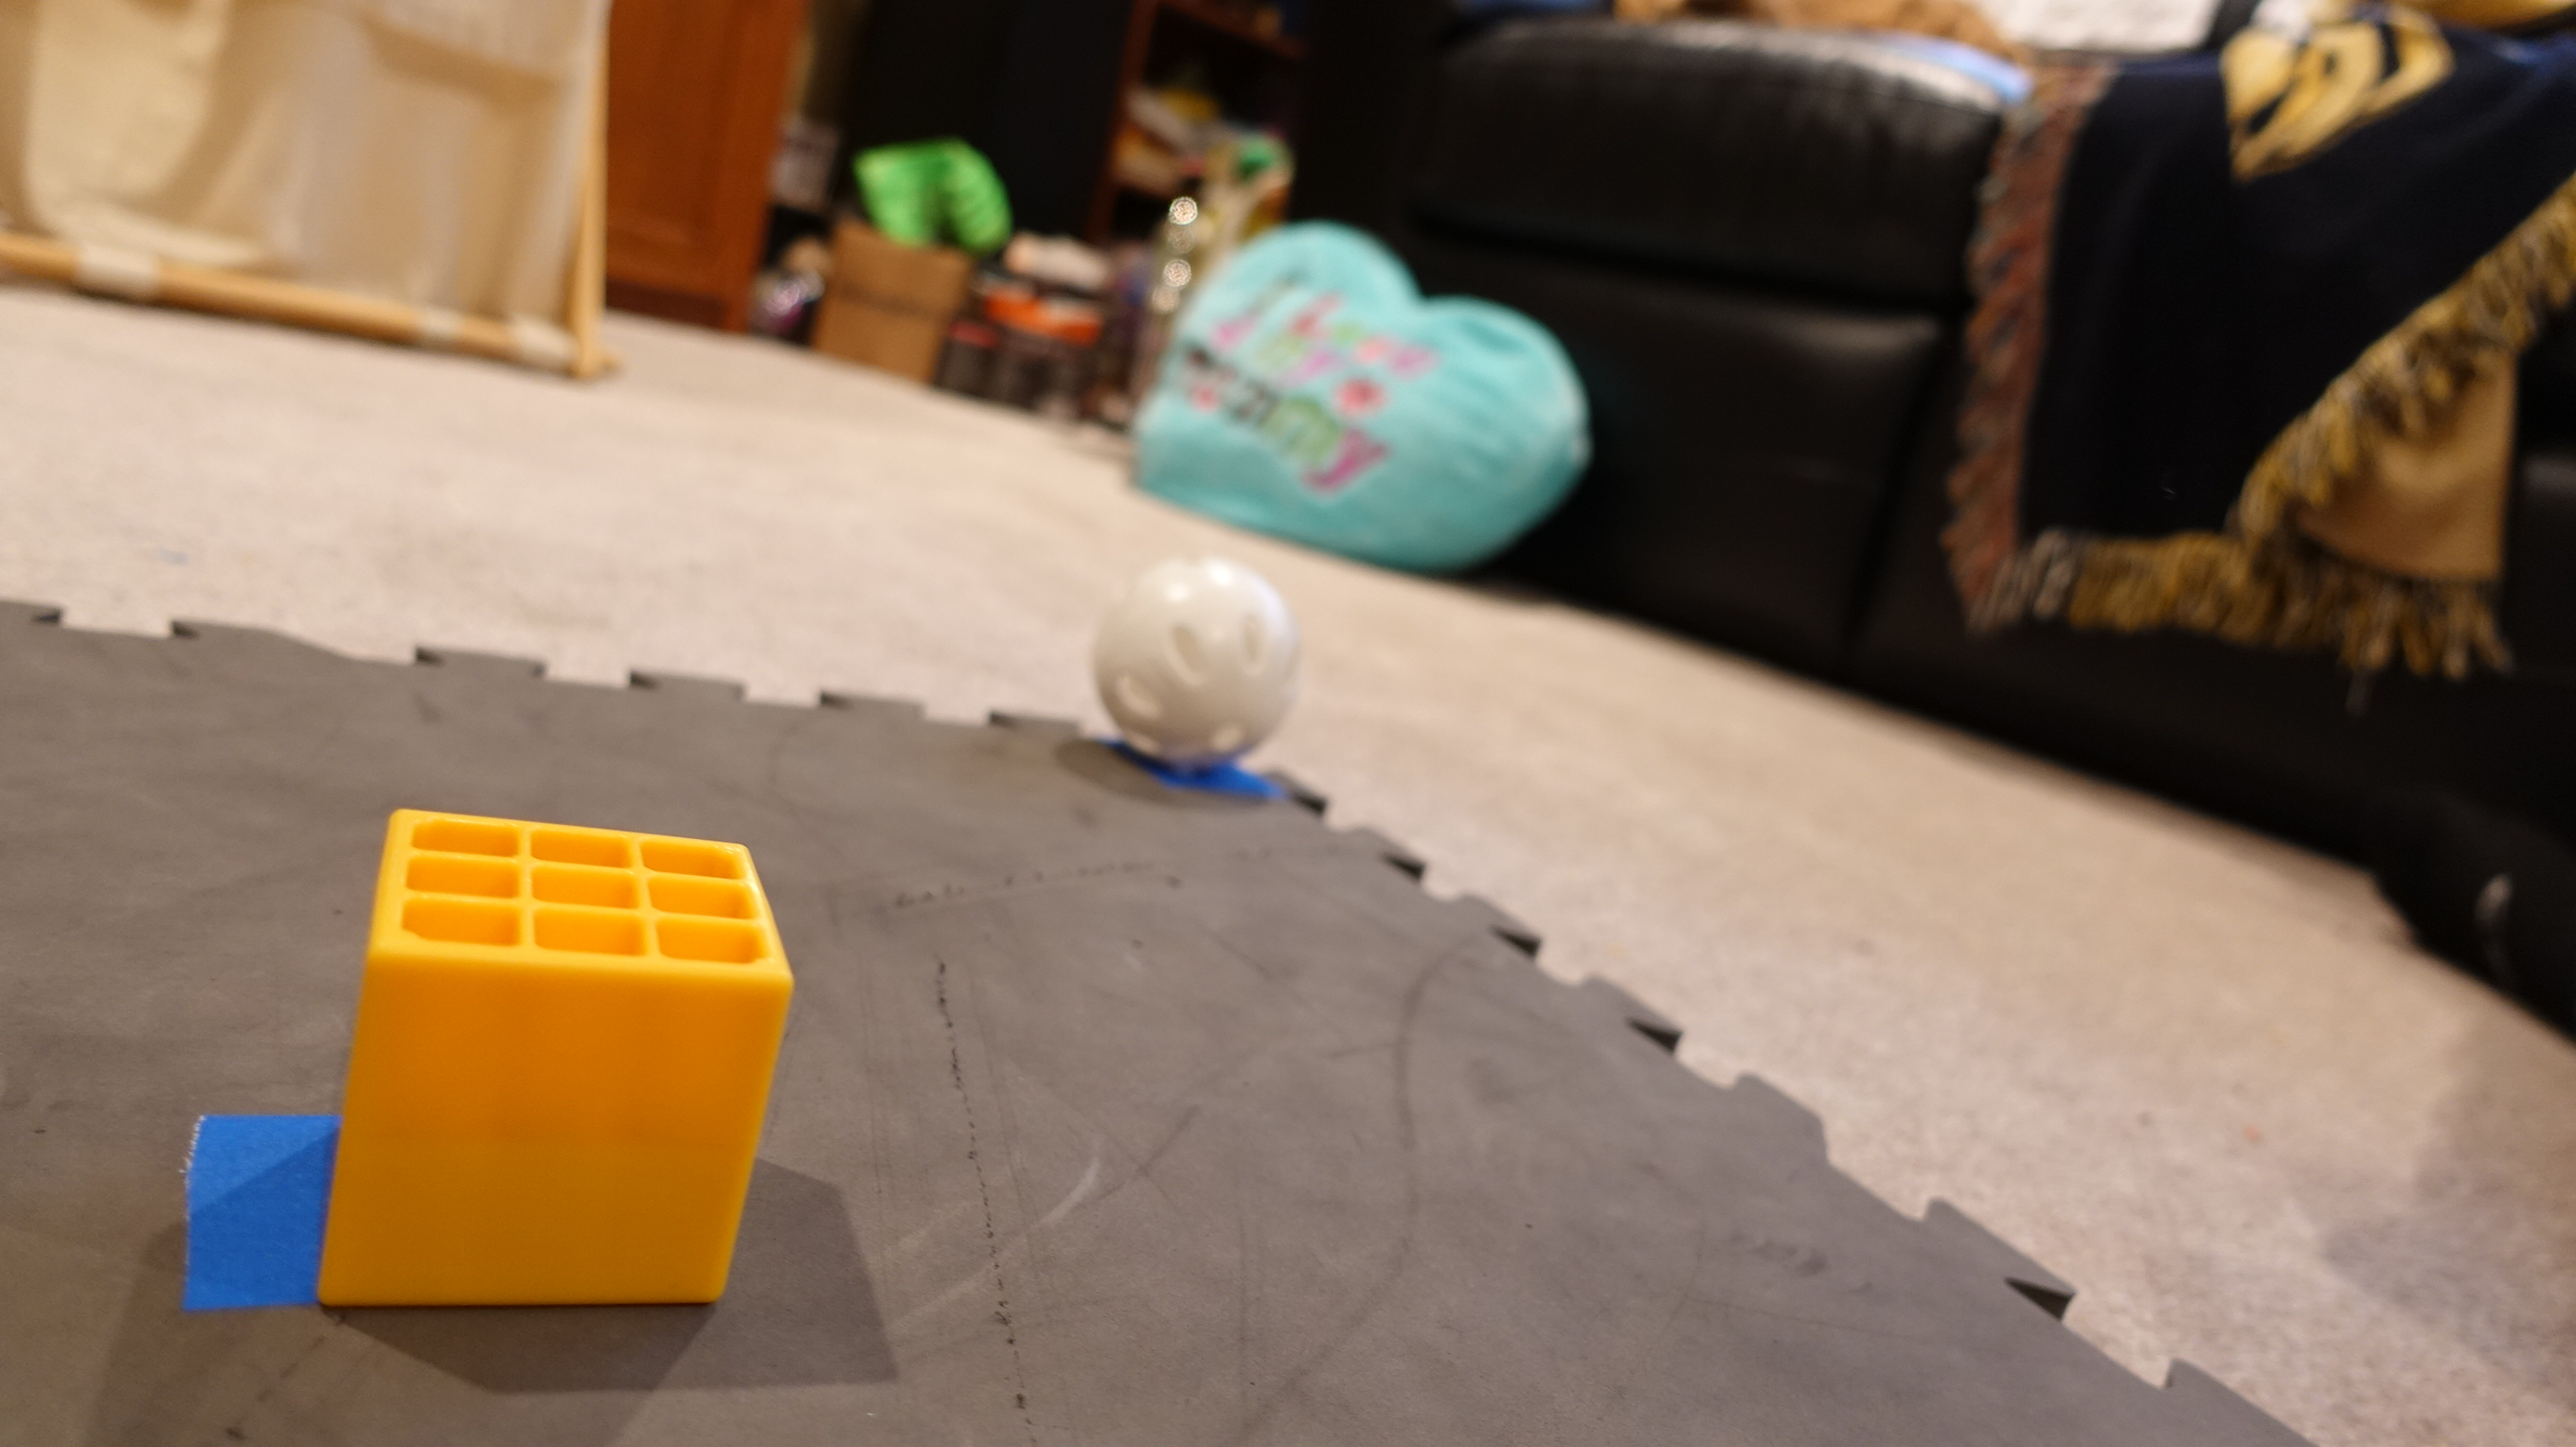gold: (304, 808, 803, 1321)
silver: (1088, 557, 1300, 780)
